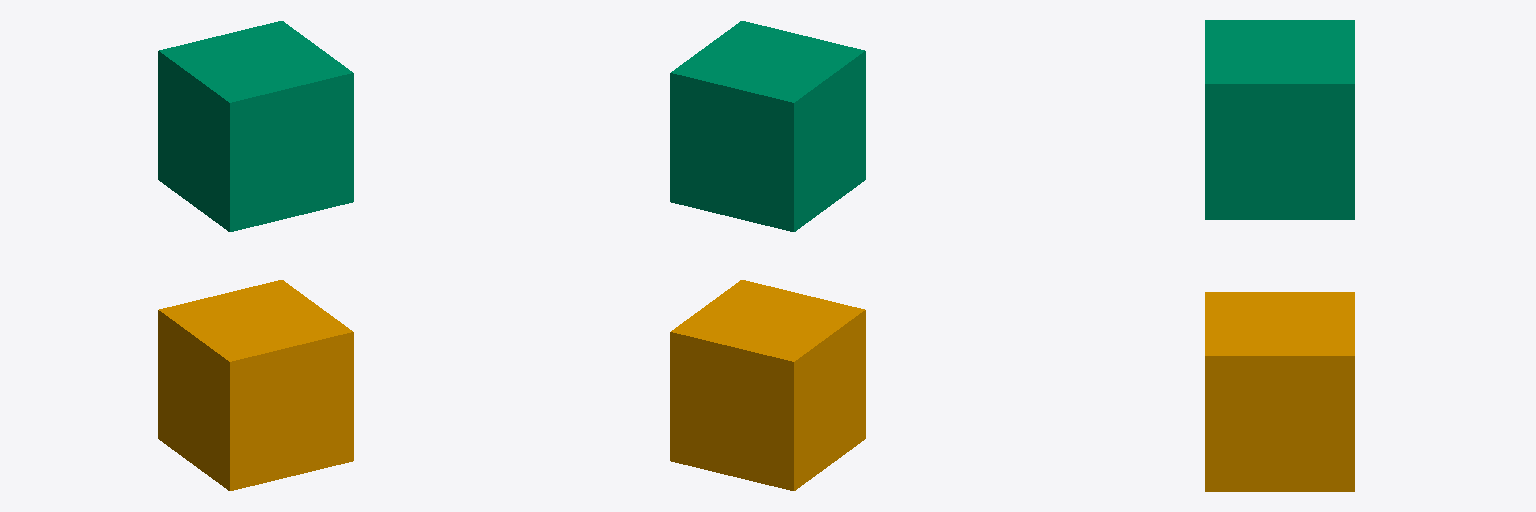
robot.urdf — mass_source_empty_chain:
<?xml version="1.0"?>
<robot name="mass_source_empty_chain">
  <link name="base">
    <inertial>
      <mass value="1"/>
      <inertia ixx="0.01" iyy="0.01" izz="0.01" ixy="0" ixz="0" iyz="0"/>
    </inertial>
    <visual>
      <geometry>
        <box size="0.1 0.1 0.1"/>
      </geometry>
    </visual>
  </link>
  <link name="empty"/>
  <link name="arm">
    <inertial>
      <mass value="1"/>
      <inertia ixx="0.01" iyy="0.01" izz="0.01" ixy="0" ixz="0" iyz="0"/>
    </inertial>
    <visual>
      <geometry>
        <box size="0.1 0.1 0.1"/>
      </geometry>
    </visual>
  </link>

  <joint name="empty_joint" type="revolute">
    <parent link="base"/>
    <child link="empty"/>
    <axis xyz="0 0 1"/>
  </joint>
  <joint name="arm_joint" type="revolute">
    <parent link="empty"/>
    <child link="arm"/>
    <origin xyz="0 0 0.2"/>
    <axis xyz="0 0 1"/>
  </joint>
</robot>

--- Facts derived from the render (not from the file) ---
Views: 3 orthographic renders of the robot side by side, from view 1: azimuth 30°, elevation 25°; view 2: azimuth 150°, elevation 25°; view 3: azimuth 270°, elevation 25°.
Model mass_source_empty_chain with 3 links and 2 joints (2 revolute), rooted at base, posed every joint at zero.
Links seen in each view (by area): view 1: base, arm; view 2: base, arm; view 3: base, arm.
Link boxes in pixels (box(x1,y1,x2,y2)): base: box(158, 280, 353, 490); arm: box(158, 21, 353, 231); base: box(670, 280, 865, 490); arm: box(670, 21, 865, 231); base: box(1205, 292, 1354, 491); arm: box(1205, 20, 1354, 219).
Size in the robot's own frame: 0.1 by 0.1 by 0.3 metres.
Geometry: primitives only (box / cylinder / sphere), no mesh files.
